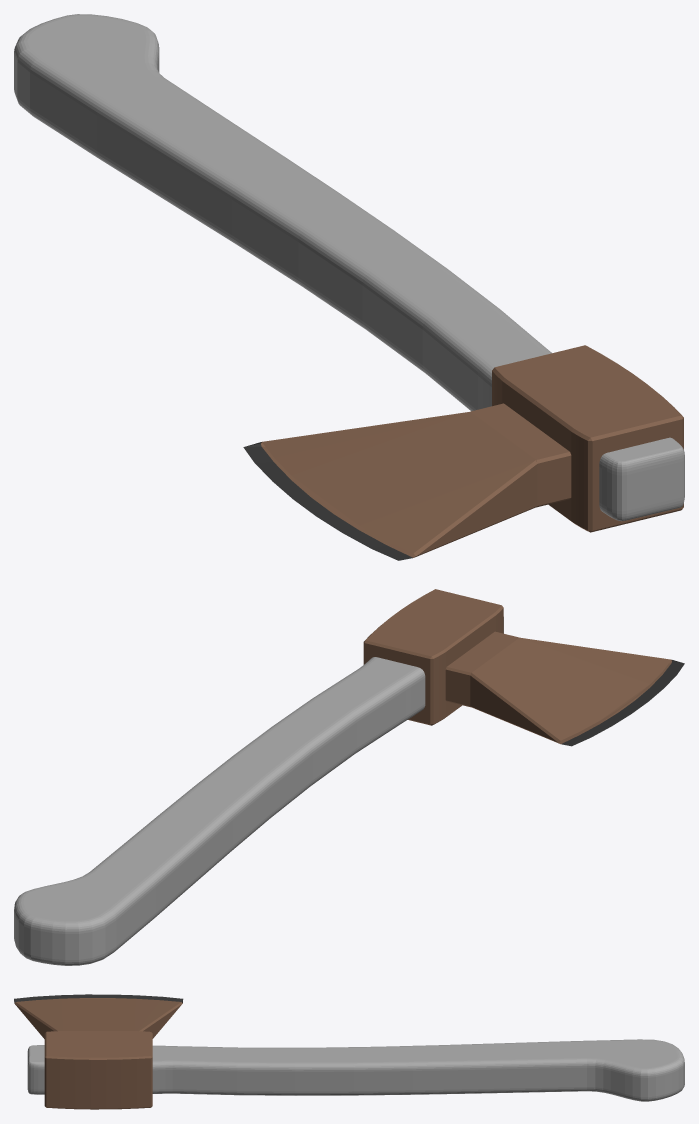
File: ascia.fbx
The picture shows the model from 3 angles, top to bottom: view 1: azimuth 30°, elevation 25°; view 2: azimuth 150°, elevation 25°; view 3: azimuth 270°, elevation 25°; orthographic projection. The views are drawn at different scales.
Parts seen in each view (by area): view 1: Line40, Shape01; view 2: Line40, Shape01; view 3: Line40, Shape01.
Boxes of the visible parts, bbox=[...] form: Line40: bbox=[14, 14, 684, 521]; Shape01: bbox=[243, 345, 683, 560]; Line40: bbox=[14, 617, 503, 965]; Shape01: bbox=[363, 589, 684, 746]; Line40: bbox=[27, 1039, 684, 1101]; Shape01: bbox=[14, 994, 183, 1109].
Bounding box in the file's own units: 0.1925 × 0.0499 × 0.5861.
